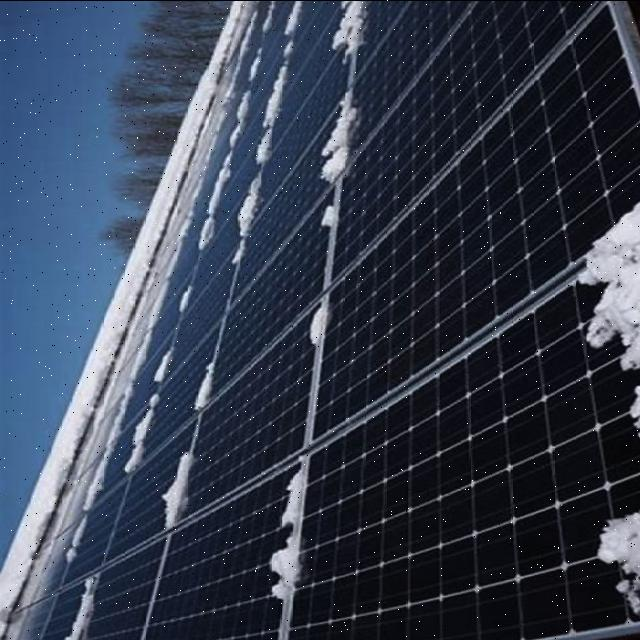Anomaly Solar Panel: (14, 0, 640, 640)
Snow: (575, 181, 640, 372), (194, 85, 254, 251), (311, 92, 370, 184), (595, 506, 640, 625), (269, 468, 305, 603), (221, 167, 268, 268), (249, 63, 291, 165), (122, 391, 157, 479), (152, 450, 190, 530), (62, 577, 102, 640), (326, 0, 365, 61), (303, 305, 330, 346), (147, 348, 176, 383), (193, 362, 213, 410), (280, 0, 302, 37), (319, 204, 334, 229)
